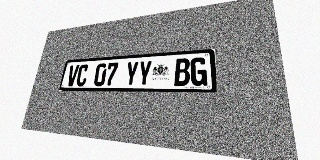0: (93, 63, 107, 86)
7: (104, 62, 119, 86)
B: (174, 58, 190, 86)
C: (75, 64, 89, 86)
G: (190, 57, 207, 86)
V: (66, 65, 79, 86)
Y: (137, 60, 152, 86), (124, 61, 139, 86)
